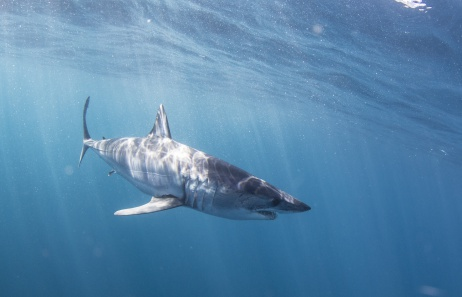Mako: (60, 93, 317, 228)
